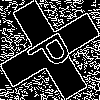P: (25, 25, 81, 77)
